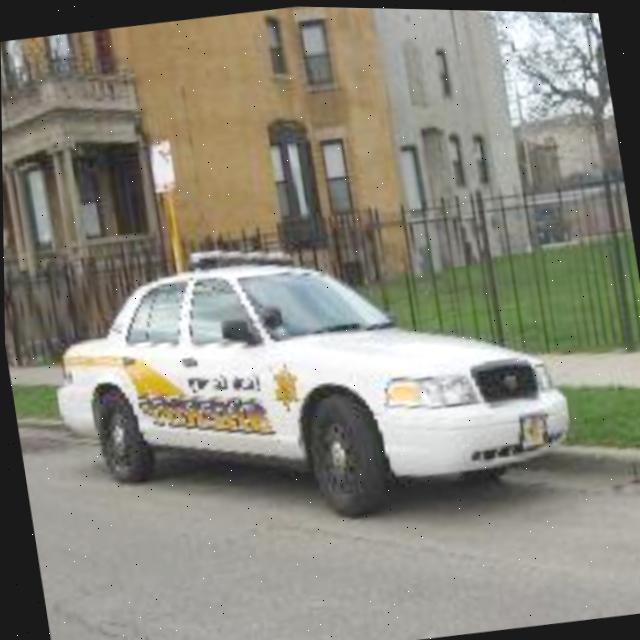emergency: (27, 180, 600, 551)
